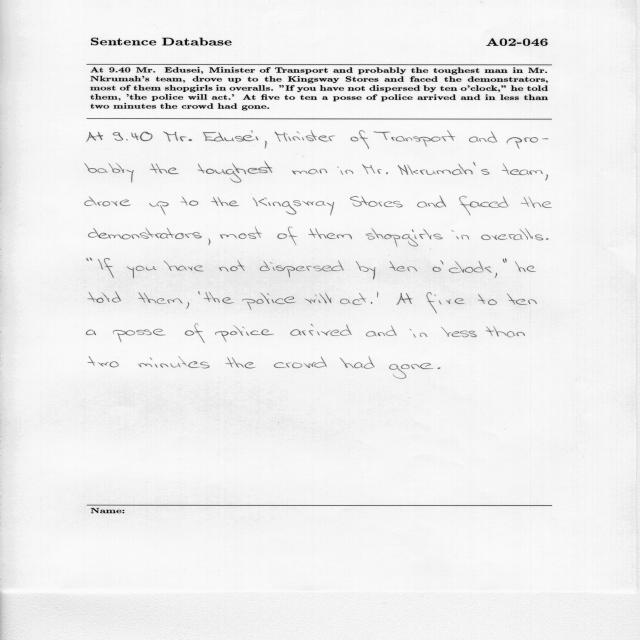word: (198, 162, 272, 183), (253, 198, 335, 216), (366, 228, 443, 247), (260, 261, 344, 278), (374, 130, 456, 147), (88, 228, 202, 239), (398, 162, 490, 175), (433, 260, 498, 278), (215, 325, 274, 342), (85, 163, 134, 183), (459, 196, 509, 215), (242, 293, 296, 310), (138, 357, 210, 369), (427, 292, 465, 313), (482, 229, 544, 241), (290, 324, 352, 336), (113, 329, 166, 343), (389, 363, 433, 379), (163, 131, 224, 142), (275, 131, 335, 142), (350, 196, 403, 207), (274, 357, 327, 368), (139, 292, 183, 304), (507, 137, 549, 149), (220, 227, 262, 239), (502, 164, 543, 176), (308, 229, 352, 240), (339, 356, 375, 369), (85, 197, 131, 207), (164, 261, 204, 272), (486, 326, 525, 337), (113, 132, 153, 142), (88, 291, 121, 303), (185, 324, 205, 343), (225, 131, 259, 142), (278, 227, 298, 245), (356, 261, 376, 279), (507, 293, 537, 305), (441, 327, 477, 337), (127, 266, 156, 278), (351, 130, 369, 149), (521, 197, 552, 208), (366, 326, 397, 337), (88, 357, 119, 368), (469, 131, 497, 143), (204, 292, 234, 303), (226, 357, 256, 368), (98, 258, 114, 278), (417, 196, 446, 207), (219, 260, 245, 272), (340, 293, 366, 305), (390, 261, 417, 272), (150, 164, 179, 174), (149, 201, 169, 215), (362, 165, 388, 175), (305, 293, 331, 303), (212, 197, 240, 206), (515, 261, 536, 272), (292, 169, 327, 175), (478, 294, 497, 305), (397, 293, 413, 305), (181, 196, 199, 206), (452, 230, 470, 240), (87, 132, 104, 142), (410, 329, 428, 337), (337, 167, 353, 175), (86, 330, 96, 335), (545, 174, 548, 181), (187, 302, 190, 309), (265, 141, 267, 149), (87, 258, 92, 261), (209, 239, 211, 246), (503, 259, 505, 263), (505, 259, 507, 263), (198, 291, 200, 295), (546, 238, 549, 240), (377, 292, 378, 298), (438, 367, 441, 369), (371, 302, 372, 304)
